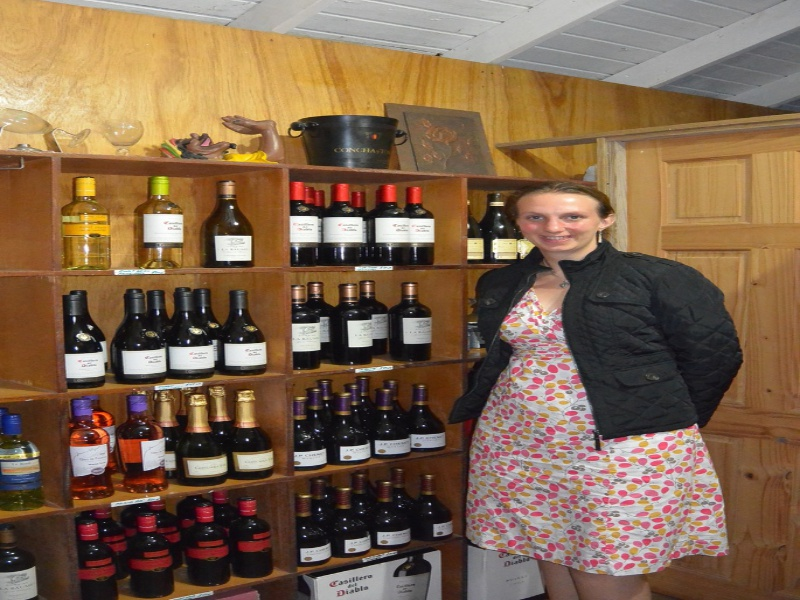wine: (59, 157, 285, 600), (292, 178, 463, 575), (1, 405, 48, 598), (465, 182, 515, 261), (288, 200, 290, 209)
